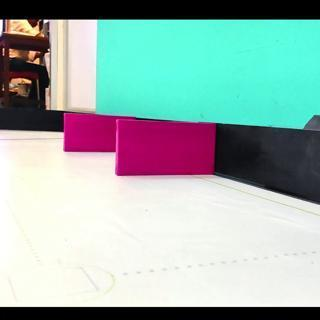xparking: (116, 122, 214, 174), (64, 114, 114, 150)
